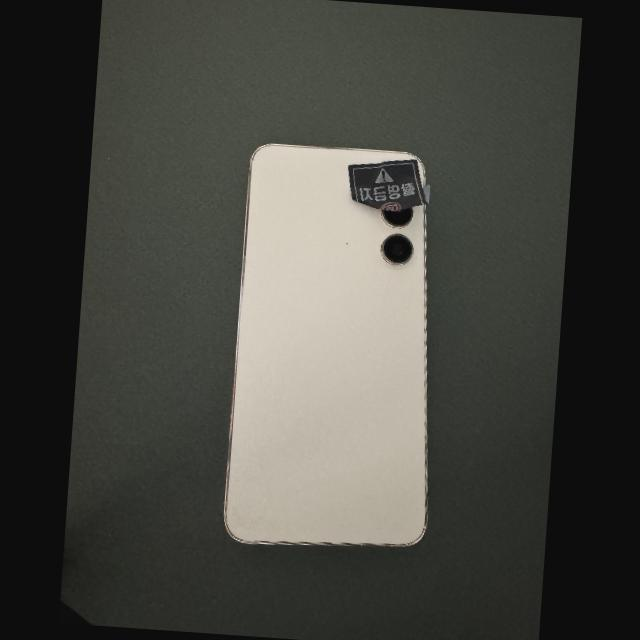lens: (381, 234, 411, 265), (379, 208, 412, 229)
phone: (223, 142, 427, 547)
sticker: (348, 158, 431, 212)
